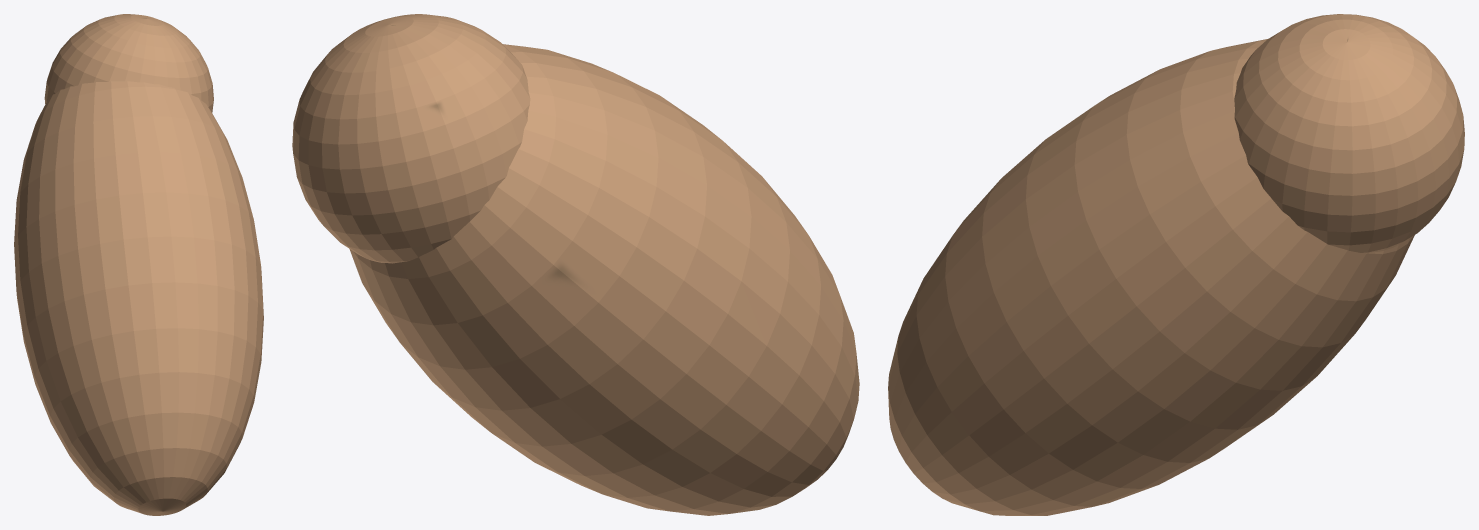
Rendered from AntebrazoIzq_Bulls.obj.
The picture shows the model from 3 angles, left to right: view 1: azimuth 30°, elevation 25°; view 2: azimuth 150°, elevation 25°; view 3: azimuth 270°, elevation 25°; orthographic projection. The views are drawn at different scales.
Visible parts, largest first — view 1: AntebrazoIzq_Bulls; view 2: AntebrazoIzq_Bulls; view 3: AntebrazoIzq_Bulls.
Boxes of the visible parts, x1=… form: AntebrazoIzq_Bulls: x1=14, y1=14, x2=263, y2=515; AntebrazoIzq_Bulls: x1=292, y1=14, x2=859, y2=515; AntebrazoIzq_Bulls: x1=888, y1=14, x2=1464, y2=515.
Bounding box in the file's own units: 1.11 × 1.63 × 1.57.
1 material, 1 textured.
